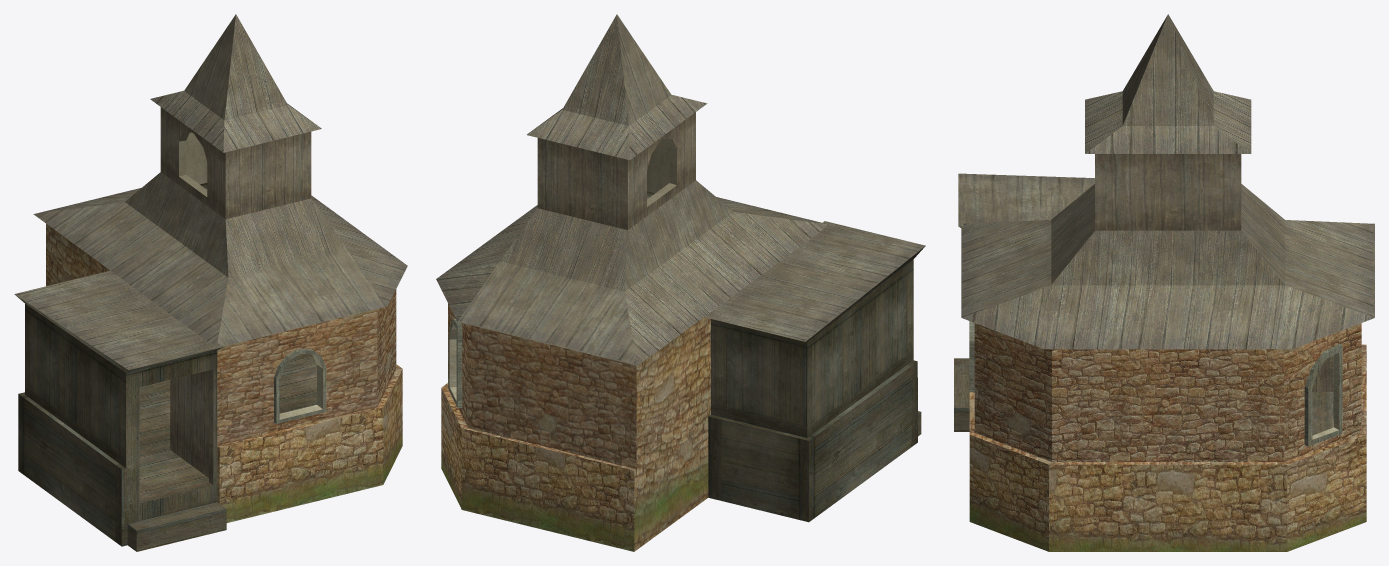
File: House13.glb
3 renders of one model, left to right at view 1: azimuth 30°, elevation 25°; view 2: azimuth 150°, elevation 25°; view 3: azimuth 270°, elevation 25°, orthographic. The views are drawn at different scales.
Parts seen in each view (by area): view 1: House13-col; view 2: House13-col; view 3: House13-col.
Part boxes in pixels (box(x1,y1,x2,y2)): House13-col: box(14, 14, 407, 551); House13-col: box(436, 14, 925, 551); House13-col: box(954, 14, 1374, 551).
Bounding box in the file's own units: 6.01 × 7.63 × 6.12.
10 materials, 10 textured.
